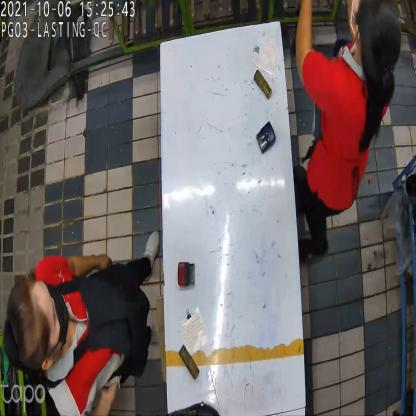stamp: (255, 121, 276, 156), (177, 259, 196, 289)
